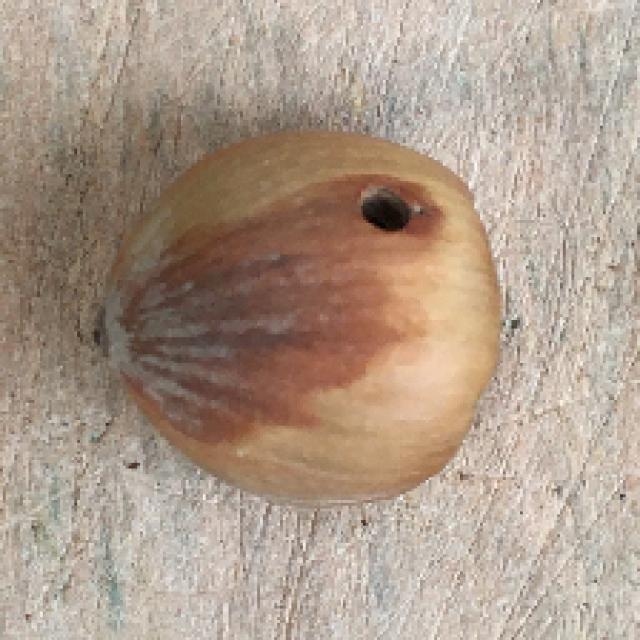damagedHazelnut: (83, 120, 508, 511)
